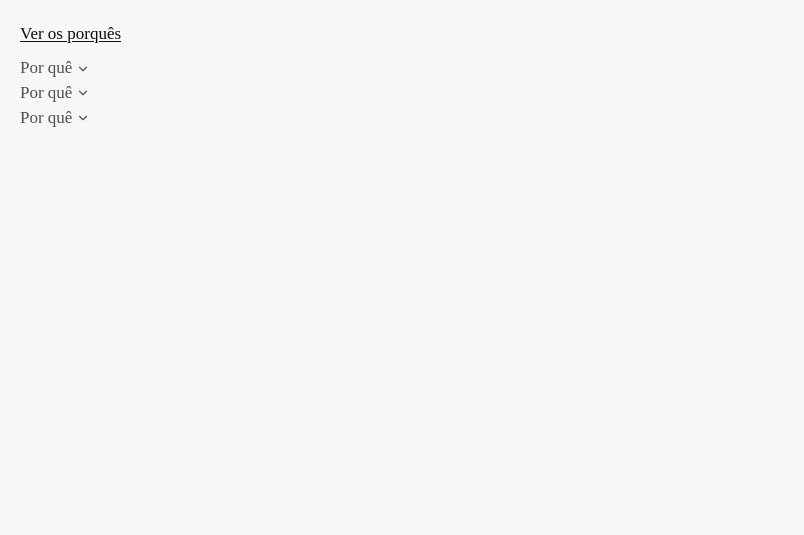
PorQue › fechar um bloco com todos abertos, fechar todos e abrir todos de novo: o bloco volta aberto (a escolha de um a um não fica)
Click the button "Ver os porquês". click: (70, 34)
box: x1=12 y1=12 x2=129 y2=56
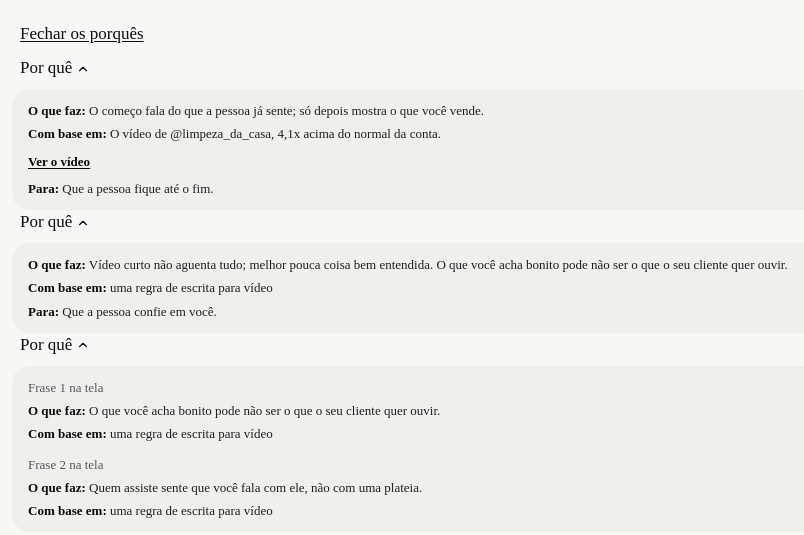
Click the button with aria-label "Por quê: Abertura". click: (55, 68)
box: x1=12 y1=46 x2=98 y2=90
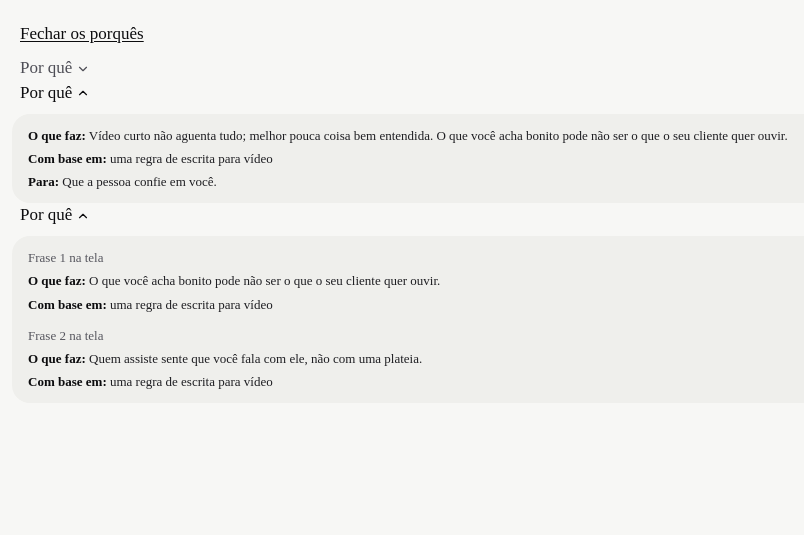
Result: the button with aria-label "Por quê: Abertura" is collapsed at x1=12 y1=46 x2=98 y2=90
Click the button "Fechar os porquês". click: (82, 34)
box: x1=12 y1=12 x2=152 y2=56
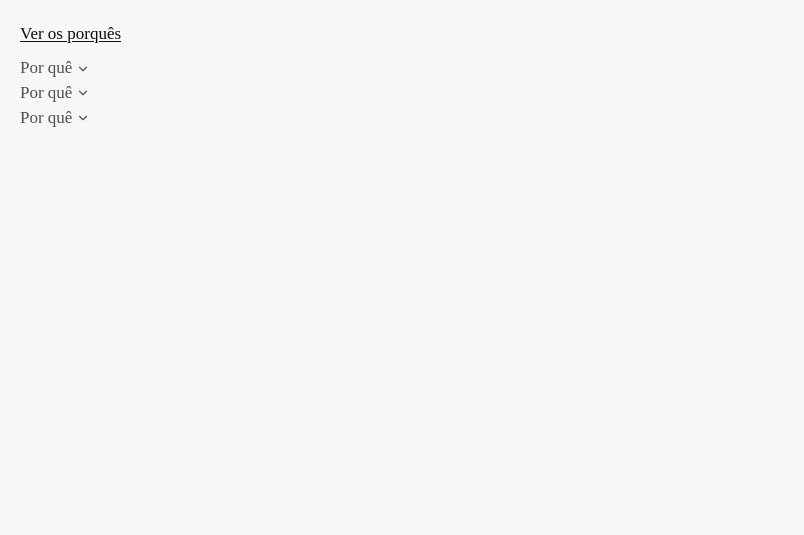
Click the button "Ver os porquês". click: (70, 34)
box: x1=12 y1=12 x2=129 y2=56
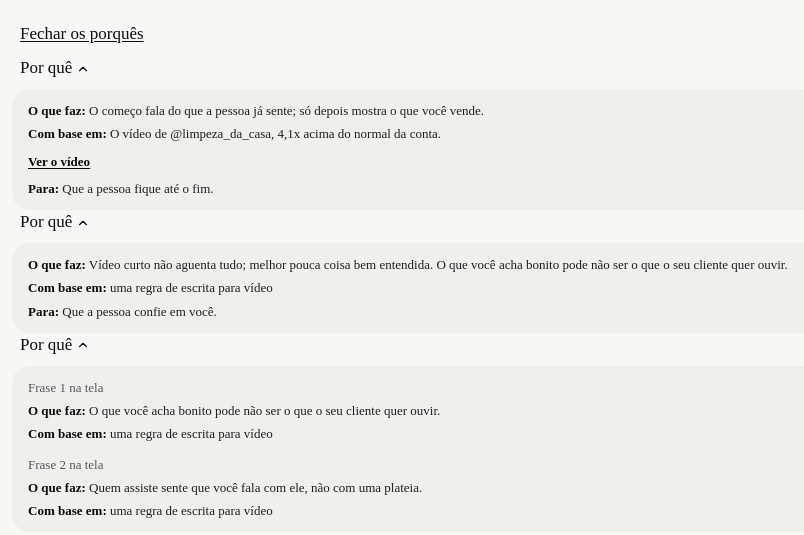
Result: the button with aria-label "Por quê: Abertura" is expanded at x1=12 y1=46 x2=98 y2=90
